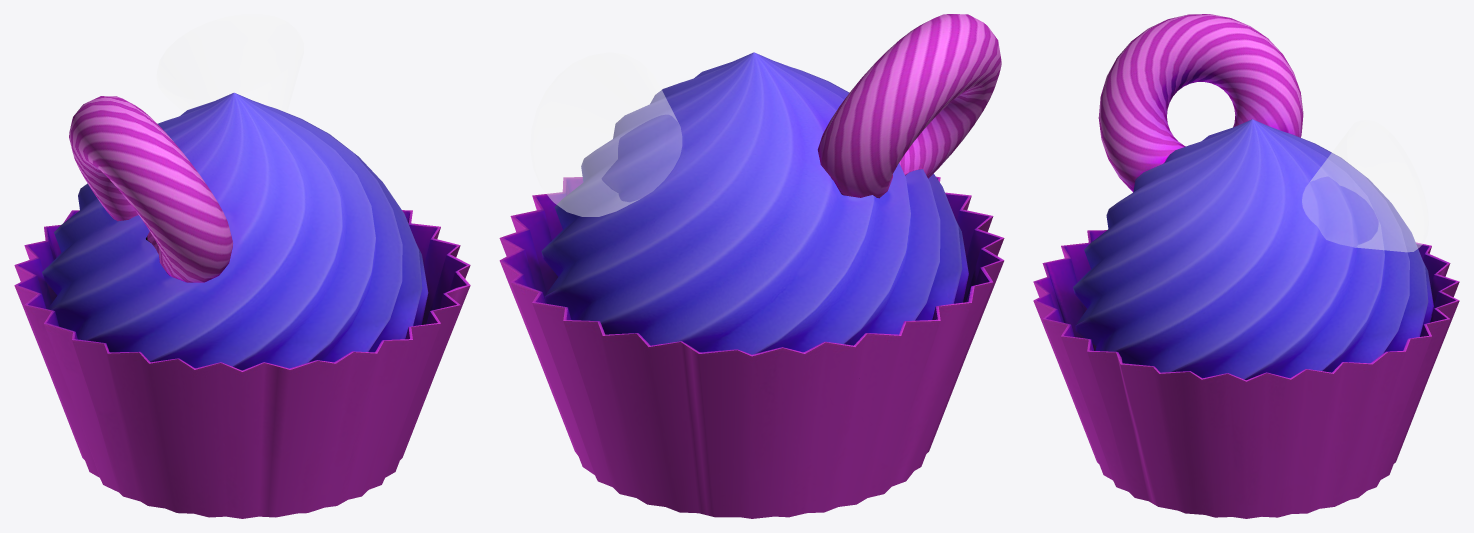
File: cupcake.glb
3 views of the same model, side by side, from view 1: azimuth 30°, elevation 25°; view 2: azimuth 150°, elevation 25°; view 3: azimuth 270°, elevation 25° (orthographic). The views are drawn at different scales.
Visible parts, largest first — view 1: Cream_low, Cup_low, Torus_low, Glass_low; view 2: Cream_low, Cup_low, Torus_low, Glass_low; view 3: Cream_low, Cup_low, Torus_low, Glass_low.
Part boxes in pixels (x1,y1,x2,y2): Cream_low: (42,92,428,370); Cup_low: (14,210,470,518); Torus_low: (69,96,233,282); Glass_low: (157,14,303,112); Cream_low: (541,52,968,354); Cup_low: (499,176,1004,518); Torus_low: (817,14,1001,198); Glass_low: (530,52,681,216); Cream_low: (1073,119,1433,380); Cup_low: (1033,230,1459,518); Torus_low: (1098,14,1303,192); Glass_low: (1302,120,1428,251).
Size of the model in its own units: 2.95 by 2.84 by 2.93.
Materials: 2 (1 with a texture image).
